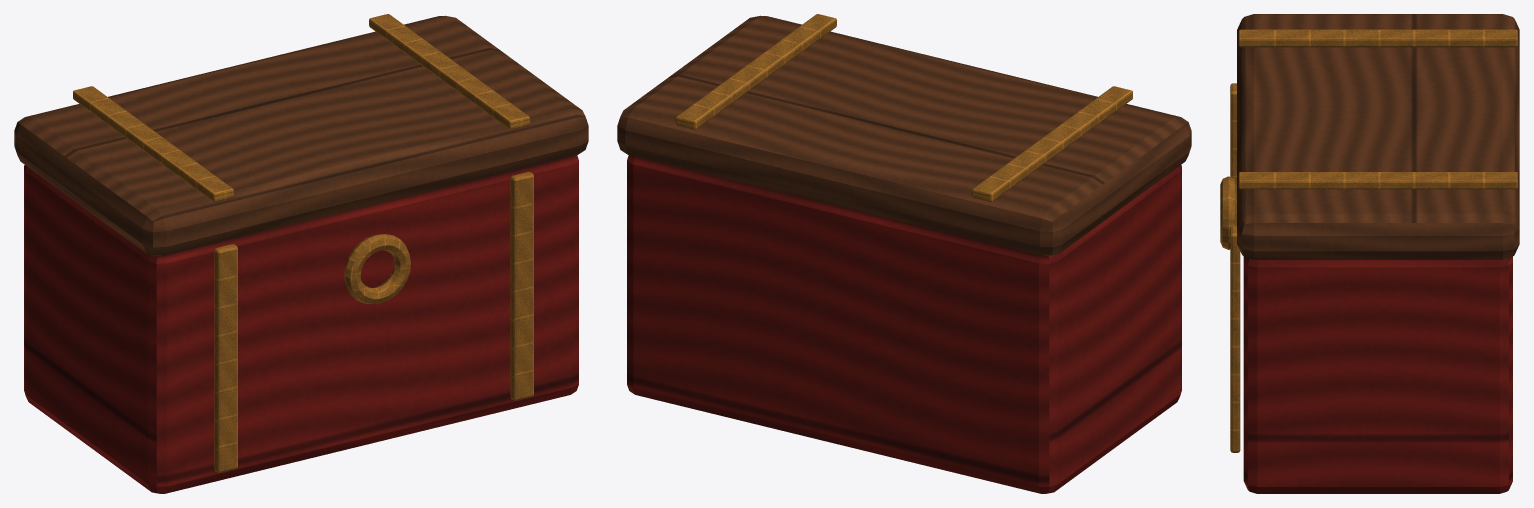
The model's file is storage_chest.glb.
The picture shows the model from 3 angles, left to right: view 1: azimuth 30°, elevation 25°; view 2: azimuth 150°, elevation 25°; view 3: azimuth 270°, elevation 25°; orthographic projection.
Parts seen in each view (by area): view 1: storage_chest_Lacquer, storage_chest_Walnut, storage_chest_Brass; view 2: storage_chest_Lacquer, storage_chest_Walnut, storage_chest_Brass; view 3: storage_chest_Lacquer, storage_chest_Walnut, storage_chest_Brass.
Part boxes in pixels (<box>): storage_chest_Lacquer: <box>24,155,578,493</box>; storage_chest_Walnut: <box>14,15,588,255</box>; storage_chest_Brass: <box>73,14,533,472</box>; storage_chest_Lacquer: <box>627,155,1181,493</box>; storage_chest_Walnut: <box>617,15,1191,255</box>; storage_chest_Brass: <box>676,14,1132,201</box>; storage_chest_Lacquer: <box>1243,257,1512,493</box>; storage_chest_Walnut: <box>1237,14,1519,259</box>; storage_chest_Brass: <box>1220,29,1517,452</box>.
Size of the model in its own units: 1.5 by 0.955 by 0.89.
3 materials, 3 textured.
